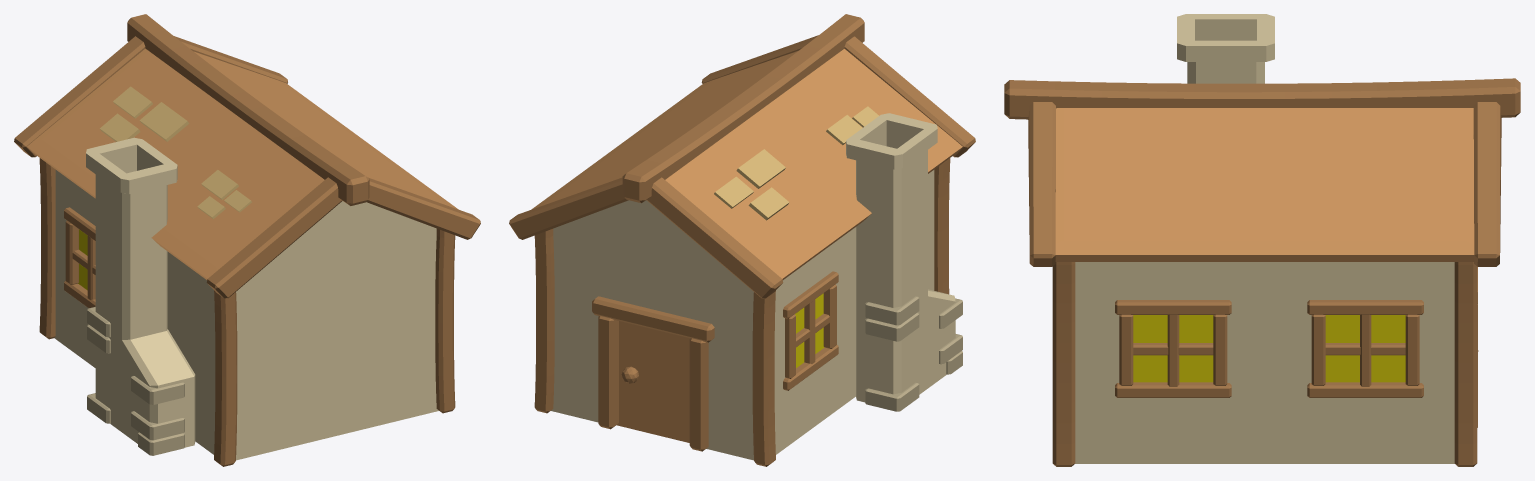
File: House1.glb
3 renders of one model, left to right at view 1: azimuth 30°, elevation 25°; view 2: azimuth 150°, elevation 25°; view 3: azimuth 270°, elevation 25°, orthographic. The views are drawn at different scales.
Parts seen in each view (by area): view 1: Cube, Cube.001, Cube.002, Cube.013, Cube.012, Cube.014, Cube.018, Cube.017, Cube.005; view 2: Cube, Cube.001, Cube.002, Cube.013, Cube.012, Cube.014, Cube.011, Cube.005, Cube.018, Cube.017; view 3: Cube.001, Cube, Cube.005, Cube.014, Cube.012, Cube.013, Cube.002.
Part boxes in pixels (x1=…): Cube: x1=54, y1=170, x2=438, y2=460; Cube.001: x1=27, y1=48, x2=458, y2=279; Cube.002: x1=86, y1=137, x2=195, y2=447; Cube.013: x1=14, y1=36, x2=480, y2=298; Cube.012: x1=39, y1=158, x2=455, y2=466; Cube.014: x1=127, y1=14, x2=369, y2=205; Cube.018: x1=87, y1=306, x2=184, y2=455; Cube.017: x1=100, y1=86, x2=251, y2=219; Cube.005: x1=64, y1=207, x2=95, y2=307; Cube: x1=551, y1=170, x2=934, y2=460; Cube.001: x1=531, y1=49, x2=962, y2=279; Cube.002: x1=846, y1=113, x2=955, y2=402; Cube.013: x1=509, y1=35, x2=975, y2=298; Cube.012: x1=534, y1=158, x2=950, y2=466; Cube.014: x1=622, y1=14, x2=864, y2=203; Cube.011: x1=592, y1=296, x2=714, y2=451; Cube.005: x1=783, y1=271, x2=838, y2=390; Cube.018: x1=865, y1=296, x2=962, y2=411; Cube.017: x1=714, y1=106, x2=878, y2=220; Cube.001: x1=1055, y1=108, x2=1474, y2=261; Cube: x1=1075, y1=262, x2=1454, y2=463; Cube.005: x1=1115, y1=300, x2=1423, y2=397; Cube.014: x1=1004, y1=78, x2=1520, y2=119; Cube.012: x1=1052, y1=262, x2=1477, y2=466; Cube.013: x1=1028, y1=102, x2=1501, y2=266; Cube.002: x1=1177, y1=14, x2=1274, y2=83.
Bounding box in the file's own units: 3.28 × 2.96 × 4.33.
